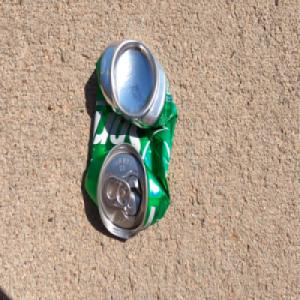SodaCan: (83, 37, 178, 242)
